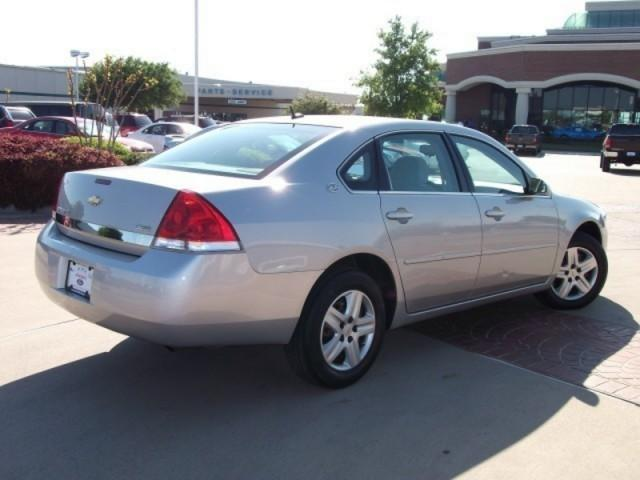car: (13, 101, 624, 383)
